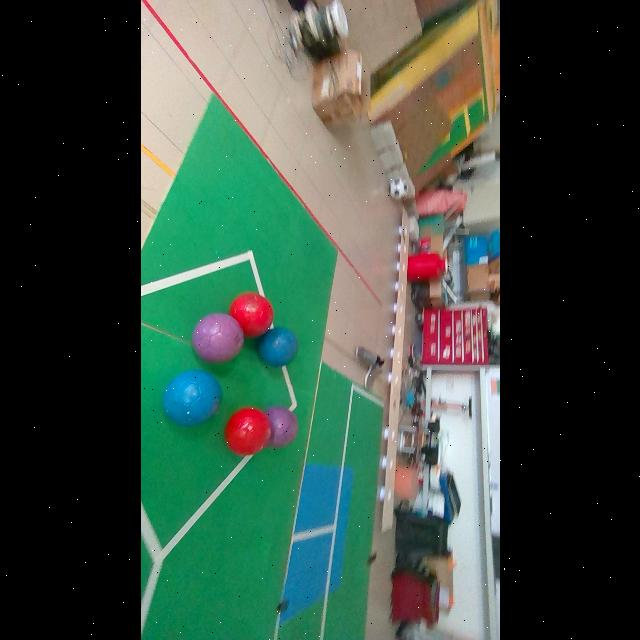B: (162, 371, 222, 426), (257, 328, 298, 367)
P: (191, 314, 243, 363), (265, 407, 298, 448)
R: (225, 407, 271, 455), (229, 292, 274, 338)
